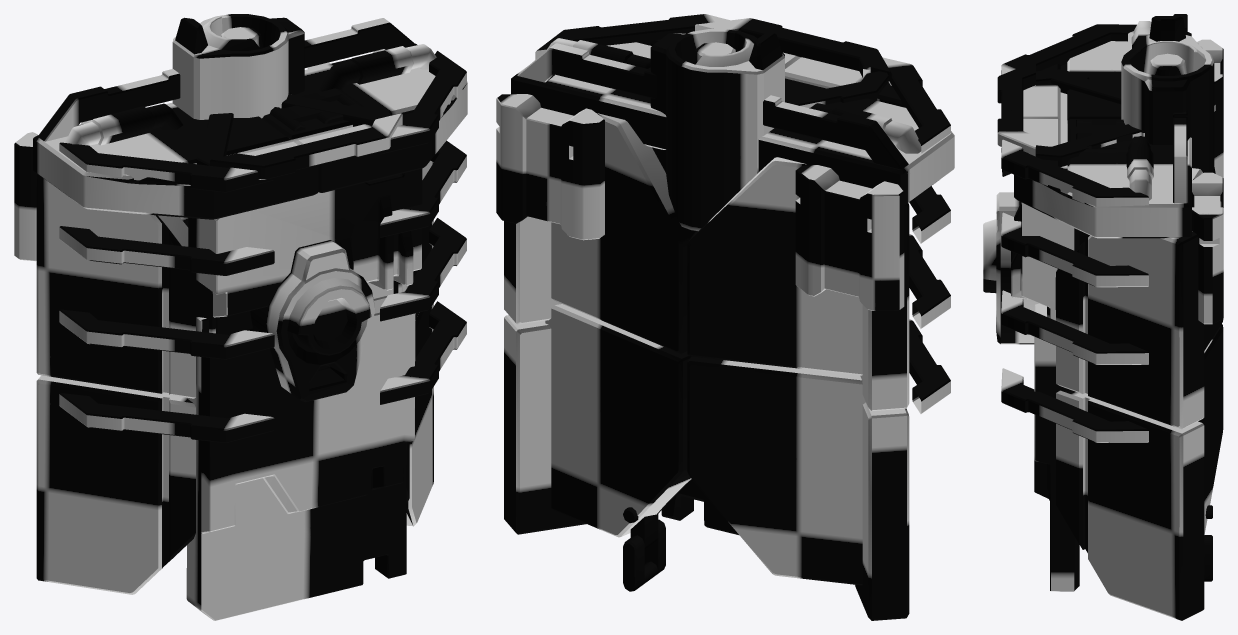
The model's file is module03.obj.
3 renders of one model, left to right at view 1: azimuth 30°, elevation 25°; view 2: azimuth 150°, elevation 25°; view 3: azimuth 270°, elevation 25°, orthographic. The views are drawn at different scales.
Visible parts, largest first — view 1: modul03, vru; view 2: modul03, vru; view 3: modul03, vru.
Part boxes in pixels (<box>): modul03: <box>14,14,467,620</box>; vru: <box>270,88,363,131</box>; modul03: <box>496,14,954,620</box>; vru: <box>623,507,665,591</box>; modul03: <box>983,14,1223,620</box>; vru: <box>1076,119,1212,581</box>.
Bounding box in the file's own units: 67.43 × 88.4 × 37.42.
4 materials, 4 textured.
